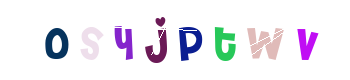4: (102, 0, 182, 80)
J: (118, 0, 198, 80)
O: (82, 0, 162, 80)
P: (132, 0, 212, 80)
S: (87, 0, 167, 80)
T: (184, 0, 264, 80)
V: (266, 0, 346, 80)
W: (207, 0, 287, 80)
